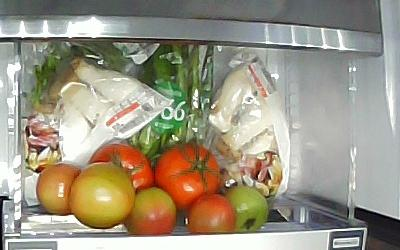tomato: (66, 159, 136, 228), (151, 142, 220, 211), (87, 142, 154, 193), (121, 185, 177, 236), (35, 162, 81, 215), (183, 191, 235, 233), (223, 184, 268, 232)
